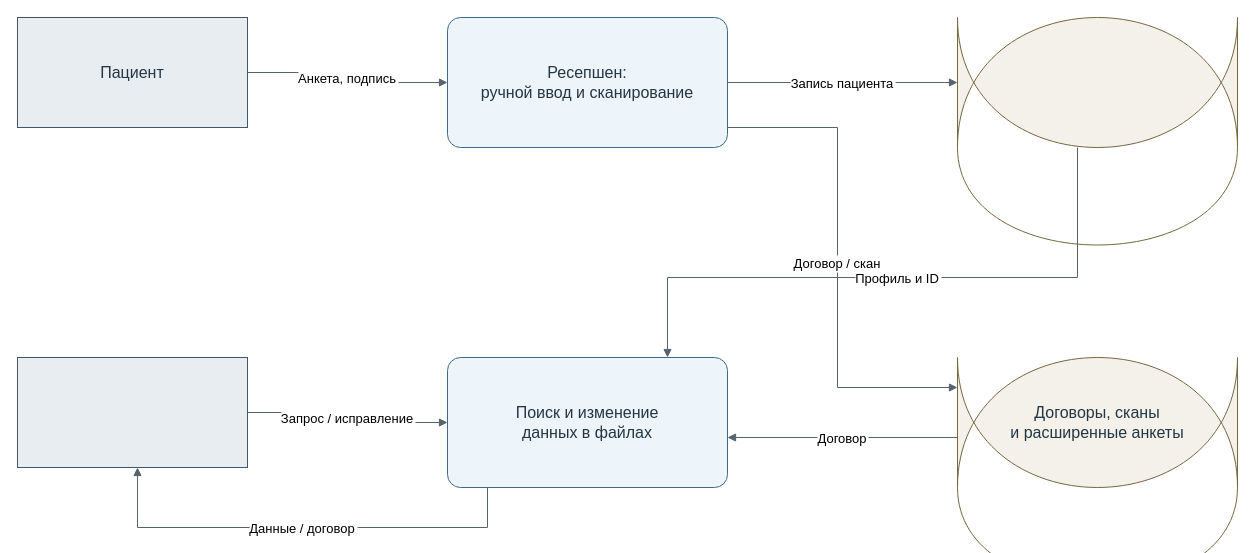
The diagram is 1255 pixels wide and 553 high, and some of its shapes have lost their labels. The shapes that lost their labels are listed below. From the top down, each one's box as (x1, y1, x2, y2) in pixels, then its label:
(956, 16, 1238, 148): Patients.xlsx и папка ФИО/дата рождения
(16, 356, 248, 468): Ресепшен
